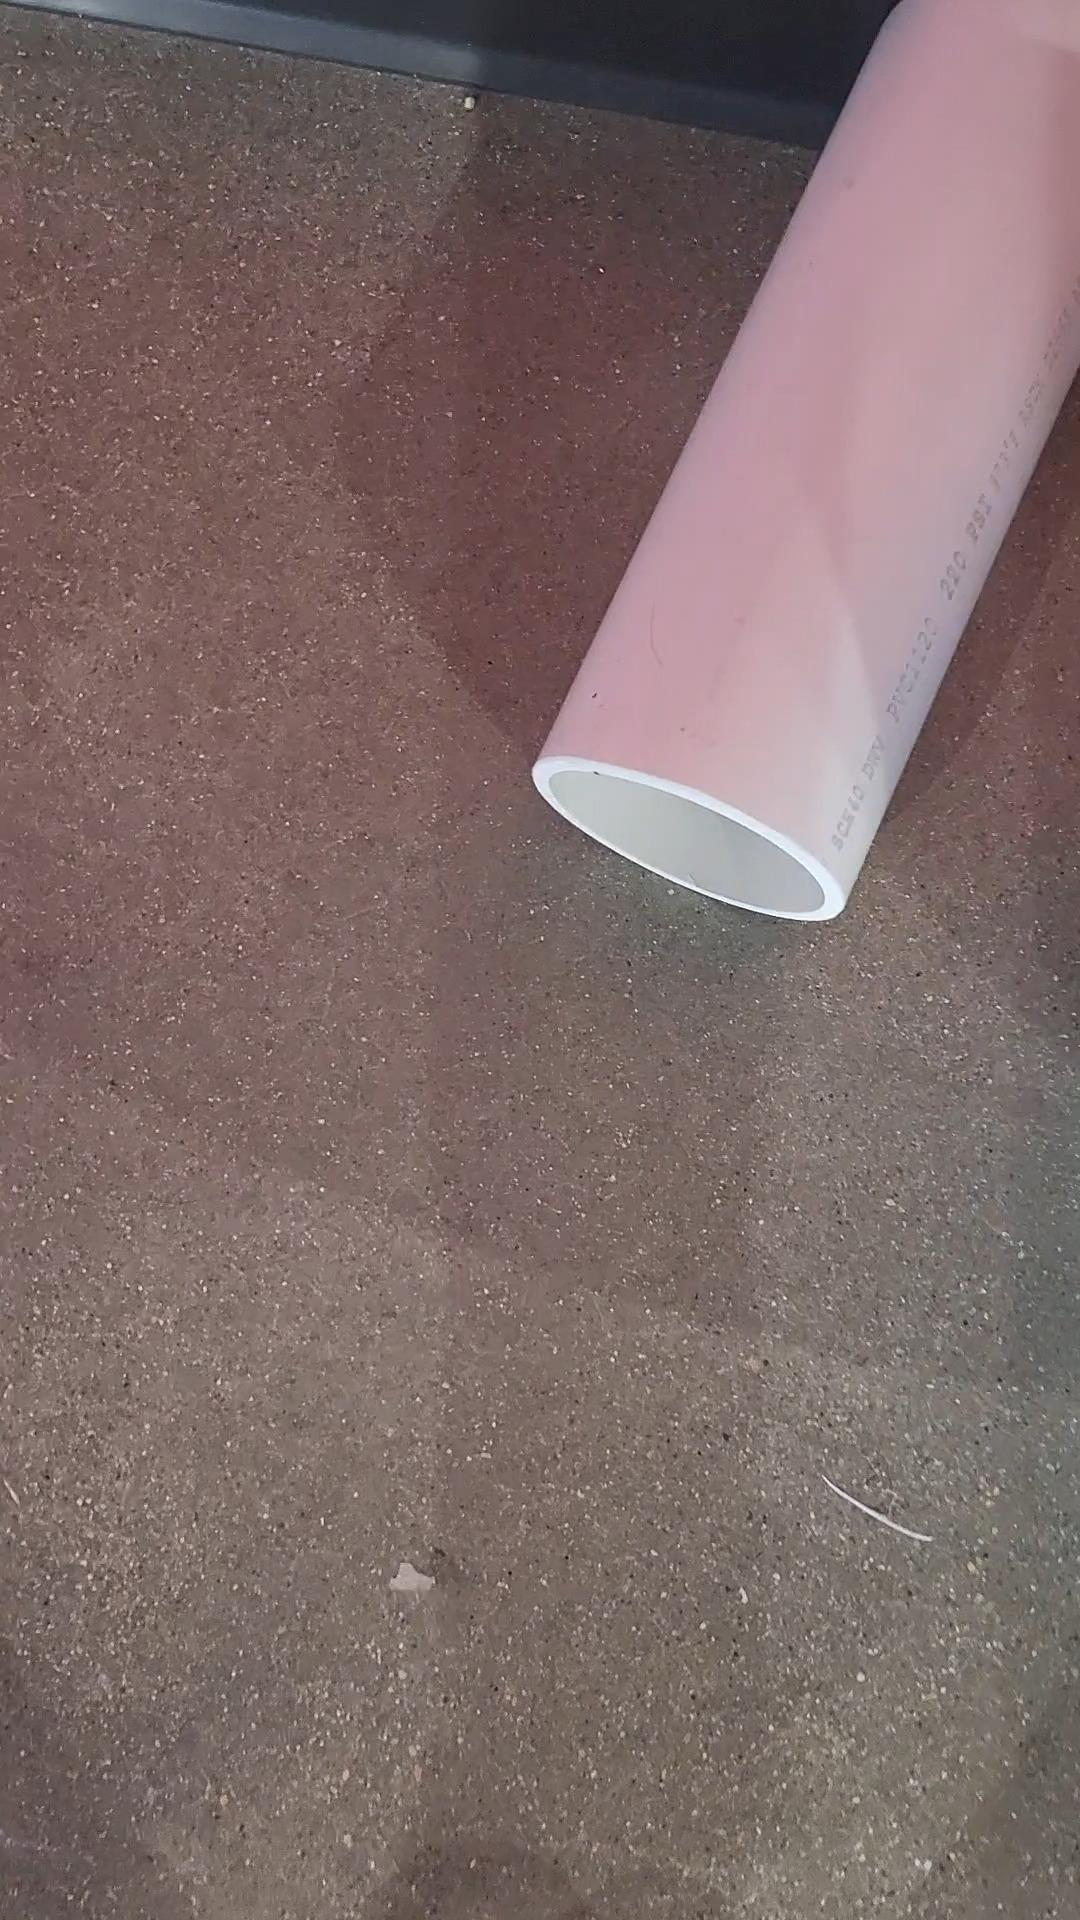coral: (521, 0, 1080, 952)
